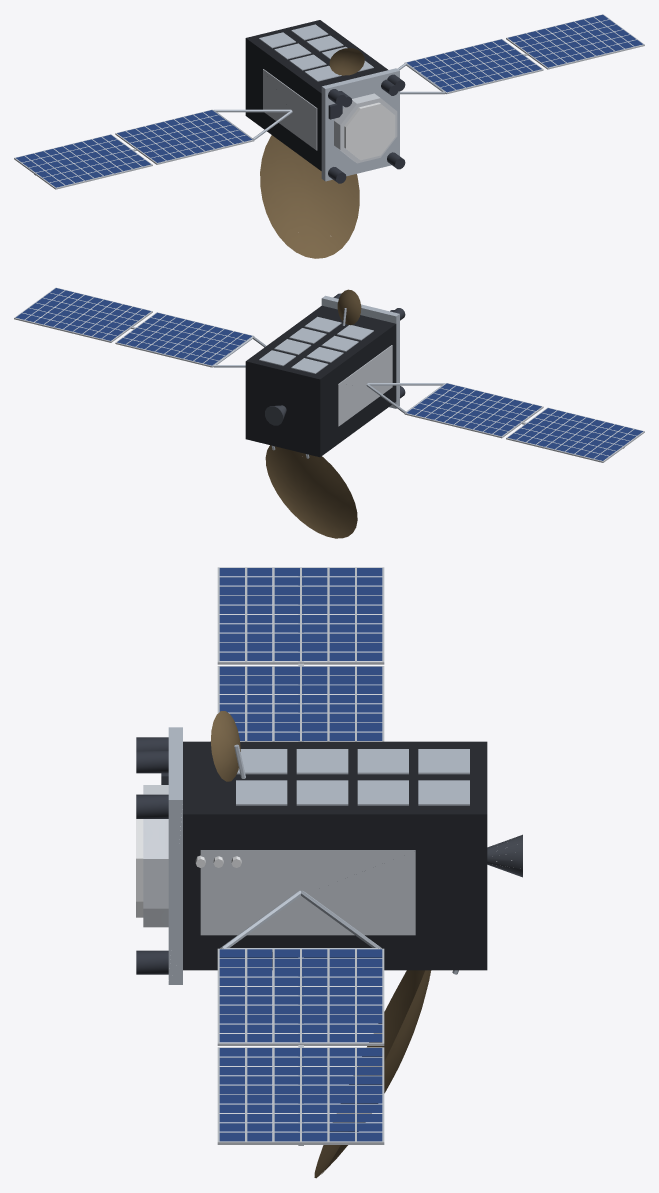
File: qzs-3.glb
The picture shows the model from 3 angles, top to bottom: view 1: azimuth 30°, elevation 25°; view 2: azimuth 150°, elevation 25°; view 3: azimuth 270°, elevation 25°; orthographic projection. The views are drawn at different scales.
Visible parts, largest first — view 1: body, solar-panel, foil; view 2: body, solar-panel, foil; view 3: body, solar-panel, foil.
Part boxes in pixels (left/top/right/bottom): body: left=14, top=14, right=644, bottom=258; solar-panel: left=16, top=14, right=643, bottom=187; foil: left=245, top=20, right=387, bottom=170; body: left=14, top=287, right=644, bottom=538; solar-panel: left=15, top=288, right=642, bottom=460; foil: left=245, top=305, right=396, bottom=457; body: left=136, top=567, right=522, bottom=1178; solar-panel: left=219, top=568, right=382, bottom=1141; foil: left=183, top=741, right=487, bottom=970.
Bounding box in the file's own units: 19 × 7.04 × 5.4.
